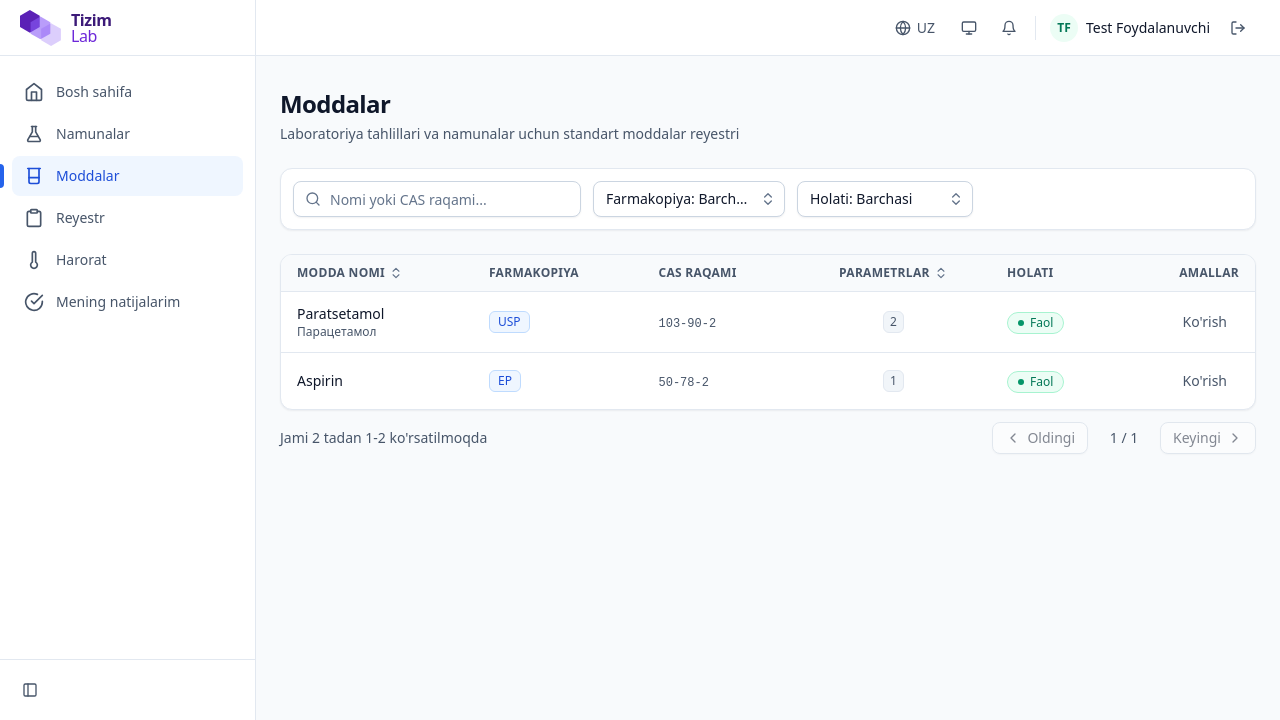
Test: SubstancesPage & Components › modda tafsiloti modali barcha parametrlarni ko‘rsatadi
This screenshot has width=1280, height=720.
Click the button "Ko'rish" in the row of "Paratsetamol" at (1205, 322), box [1170,306,1239,338]
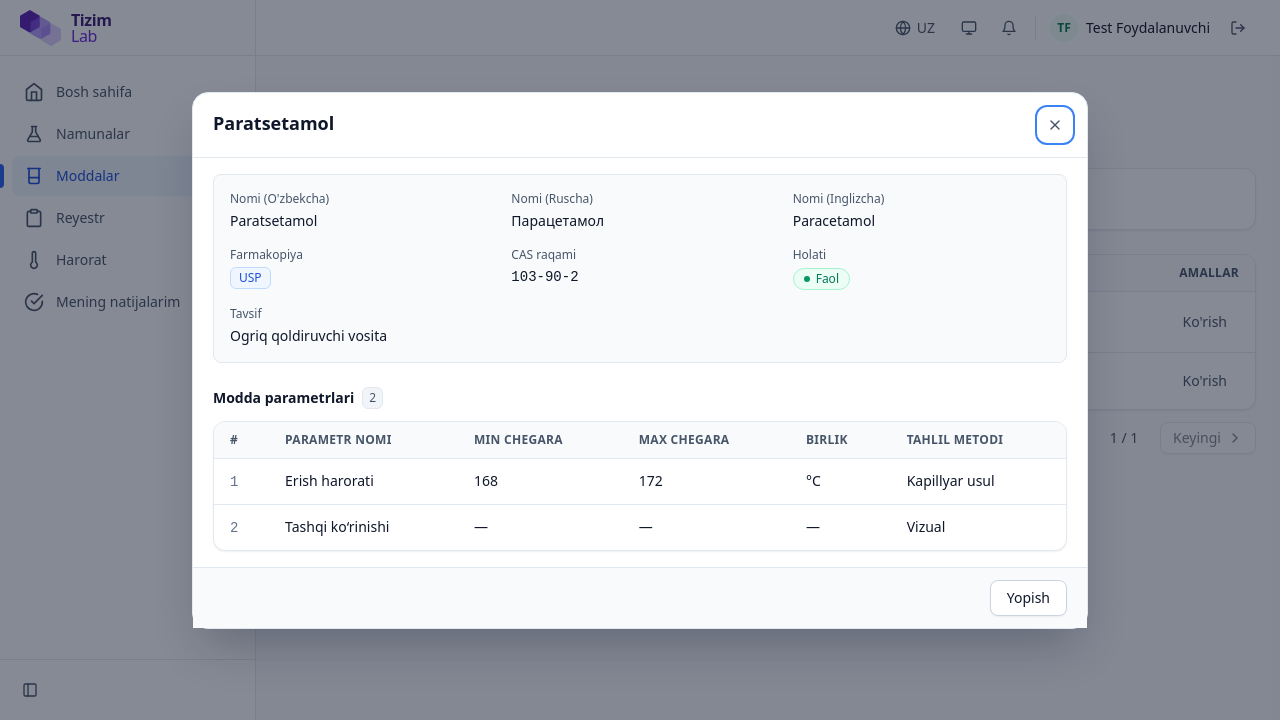
Result: the text "Erish harorati" is shown at [285,471,374,490]
Result: the text "168" is shown at [458,458,623,504]
Result: the text "172" is shown at [623,458,790,504]
